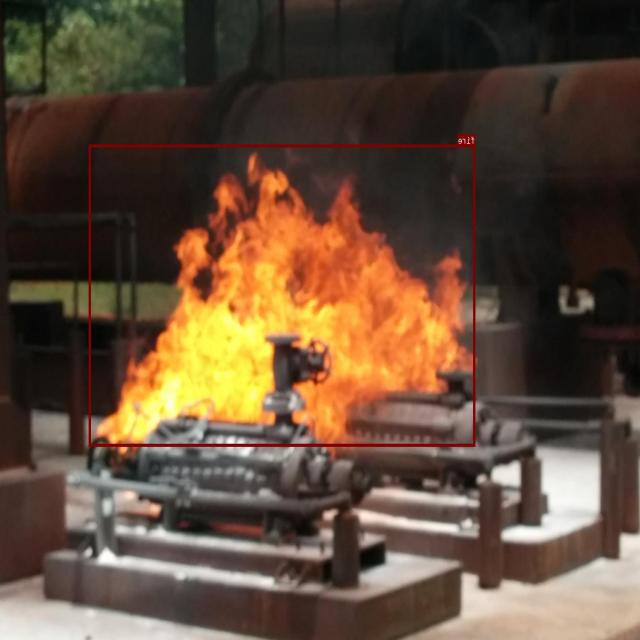fire: (89, 144, 476, 446)
